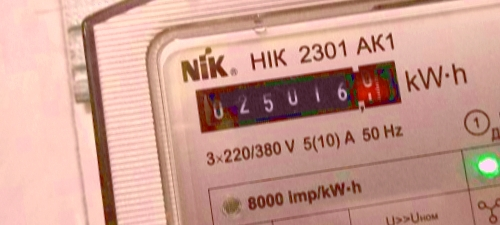0: (286, 82, 303, 106), (211, 96, 227, 120), (360, 66, 375, 88)
1: (310, 77, 325, 104), (365, 89, 375, 101)
2: (236, 90, 252, 114)
5: (261, 90, 275, 112)
6: (334, 77, 351, 103)
screen: (185, 48, 413, 140)
